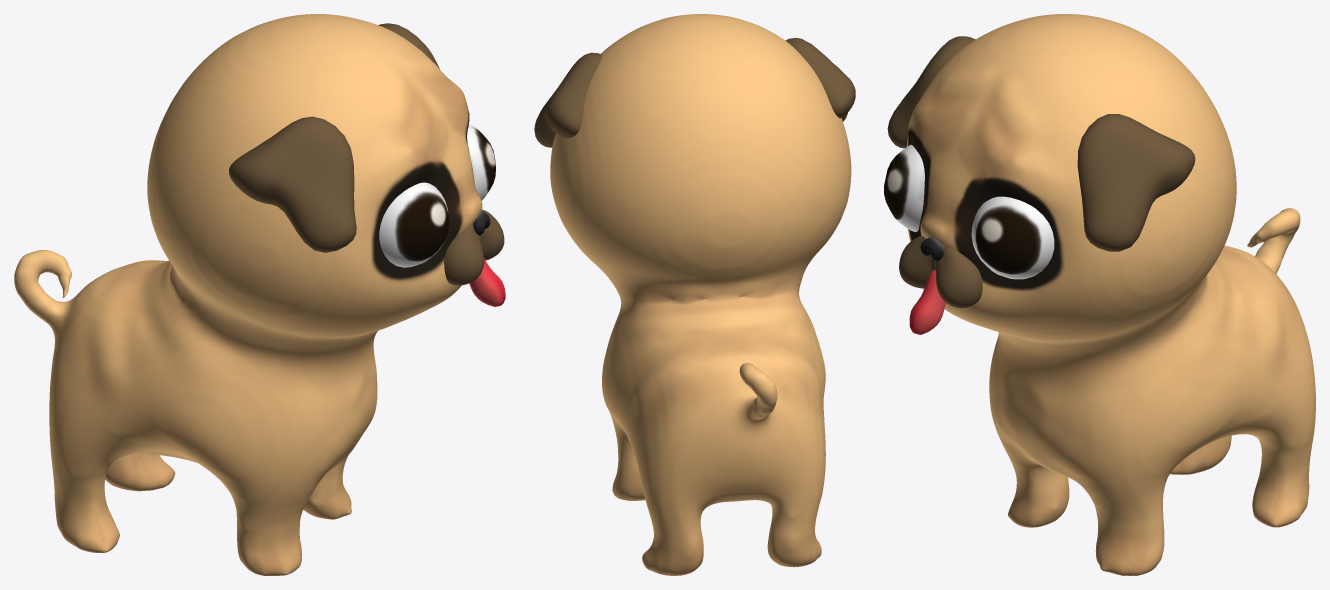
File: cute_pug.glb
The picture shows the model from 3 angles, left to right: view 1: azimuth 30°, elevation 25°; view 2: azimuth 150°, elevation 25°; view 3: azimuth 270°, elevation 25°; orthographic projection. The views are drawn at different scales.
Parts seen in each view (by area): view 1: NurbsPath, Cube.003, Sphere.001, Cube.001, Cube.002; view 2: NurbsPath, Cube.003; view 3: NurbsPath, Cube.003, Sphere.001, Cube.001, Cube.002.
Part boxes in pixels (x1,y1,x2,y2): NurbsPath: [14, 14, 482, 575]; Cube.003: [229, 23, 439, 252]; Sphere.001: [379, 124, 495, 267]; Cube.001: [444, 209, 504, 285]; Cube.002: [469, 258, 505, 306]; NurbsPath: [550, 14, 851, 575]; Cube.003: [534, 38, 855, 147]; NurbsPath: [906, 14, 1315, 575]; Cube.003: [887, 36, 1195, 251]; Sphere.001: [884, 144, 1054, 279]; Cube.001: [899, 235, 982, 308]; Cube.002: [909, 270, 945, 334].
Size of the model in its own units: 1569 by 2163 by 1620.
Materials: 4 (4 with a texture image).
